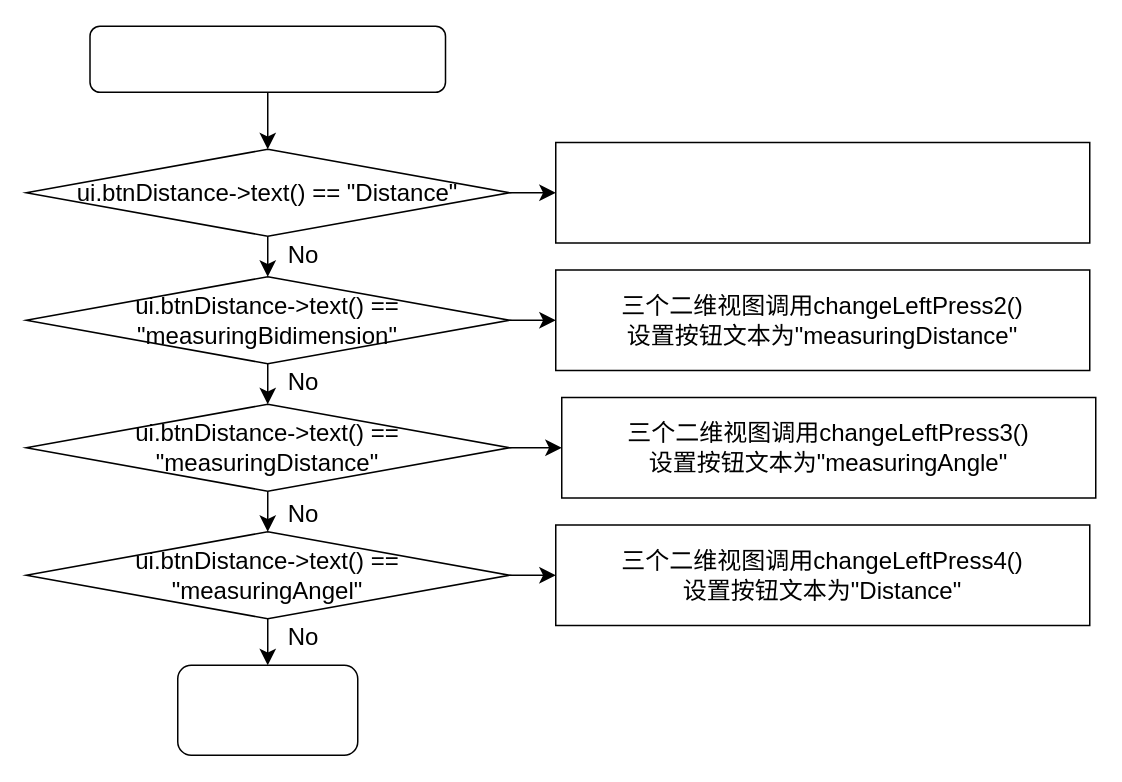
This 1122x782 diagram has some shape labels left out. The centre of each missing label's shape, as x and y in pixels:
end: point (267, 709)
void Medical3D::Distance(): point (267, 58)
三个二维视图调用changeLeftPress1() 设置按钮文本为 "measuringBidimension": point (822, 192)
